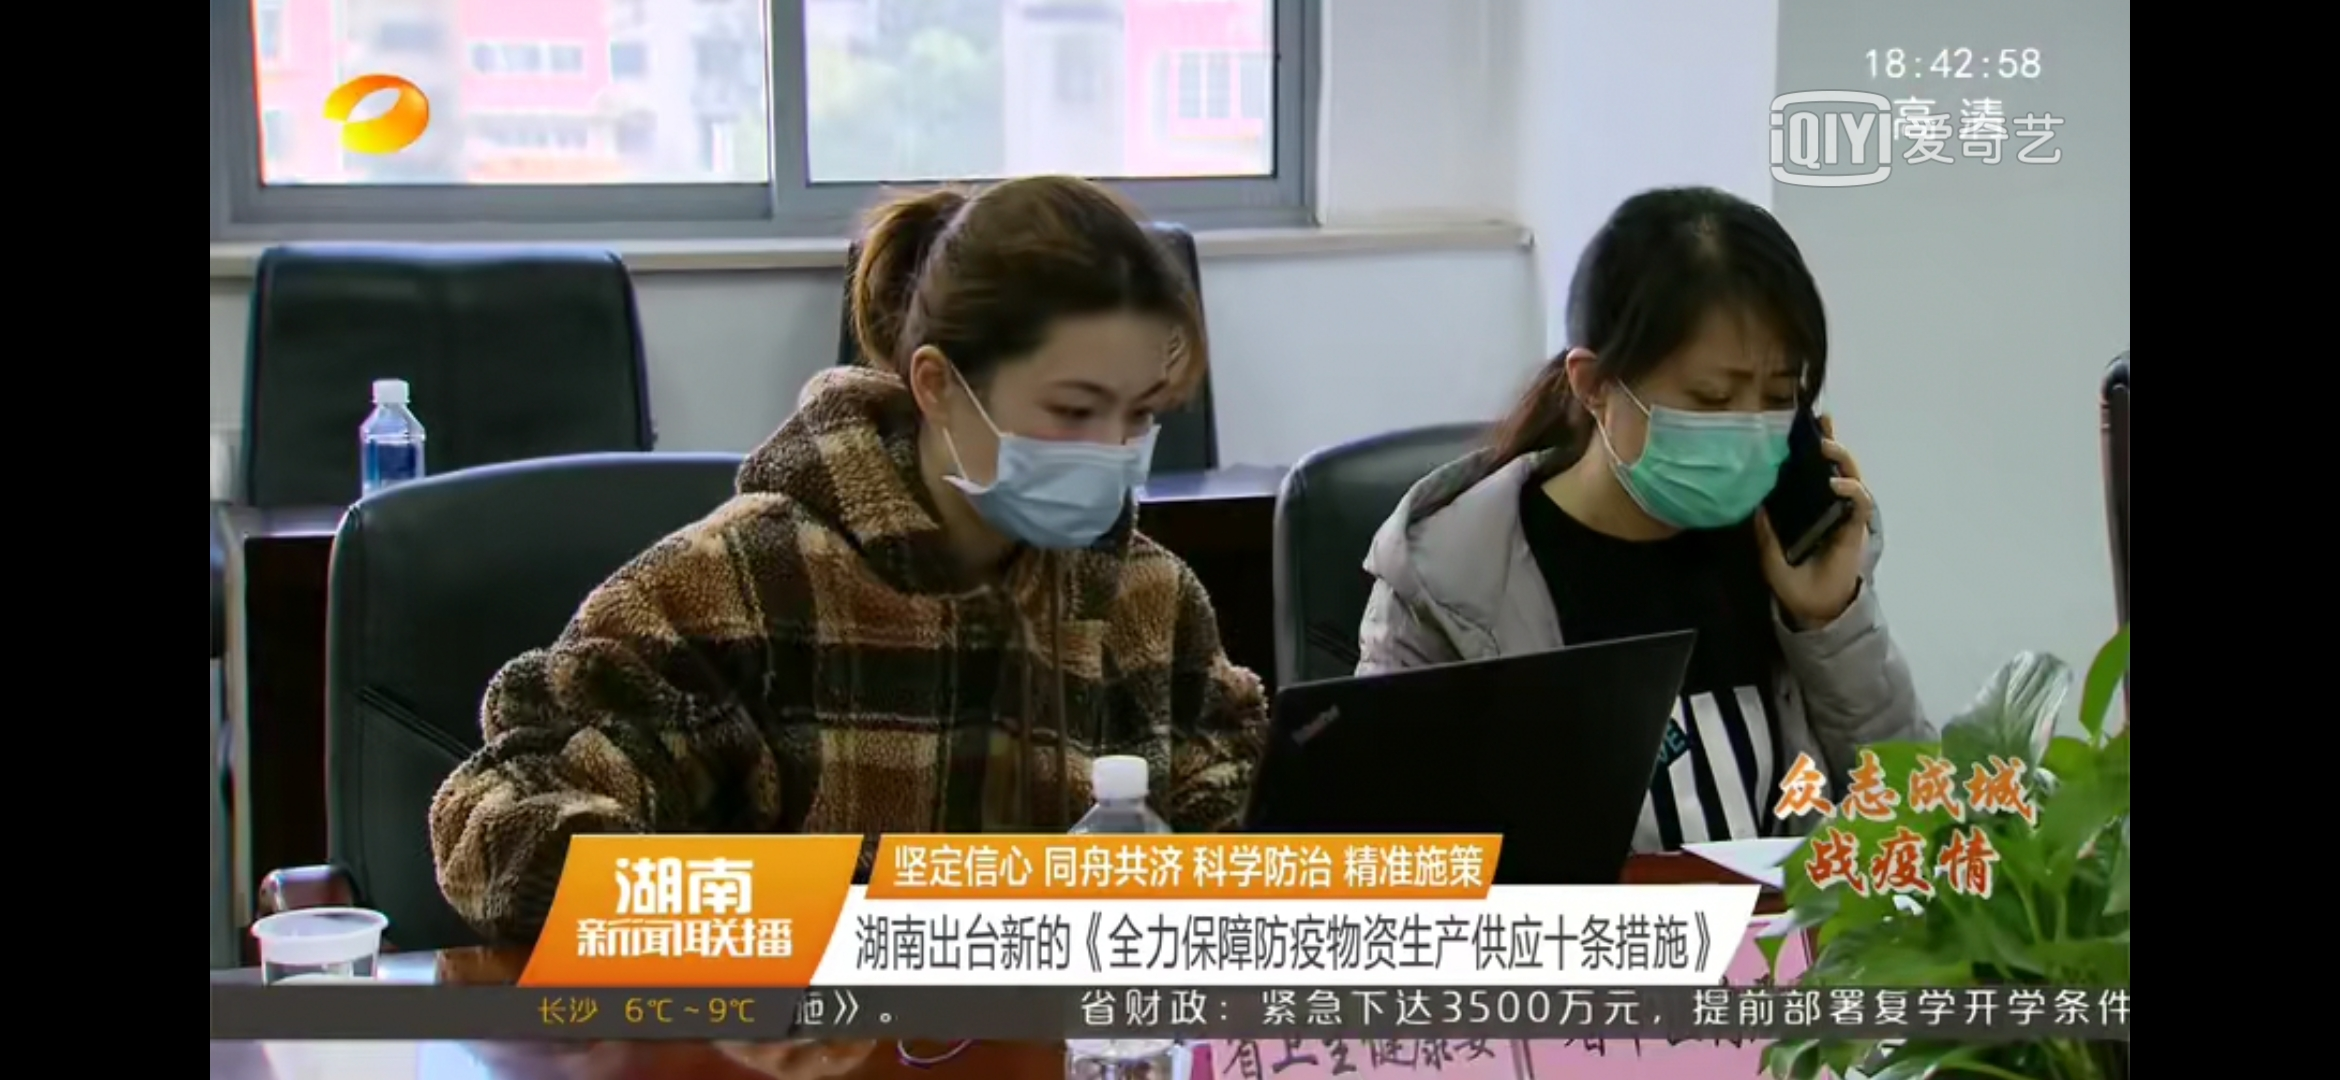correctlyWear: (904, 334, 1169, 564), (1565, 304, 1801, 534)
